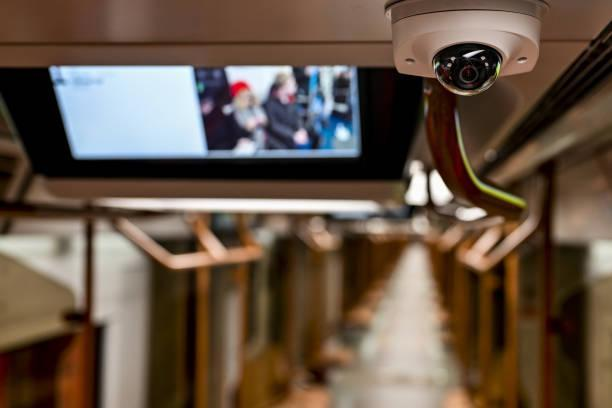camera: (369, 0, 562, 108)
